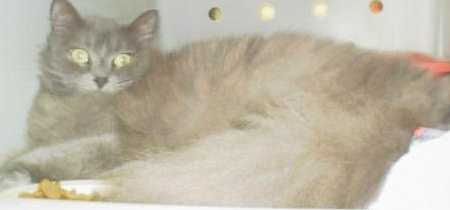Cat: (23, 0, 408, 209)
